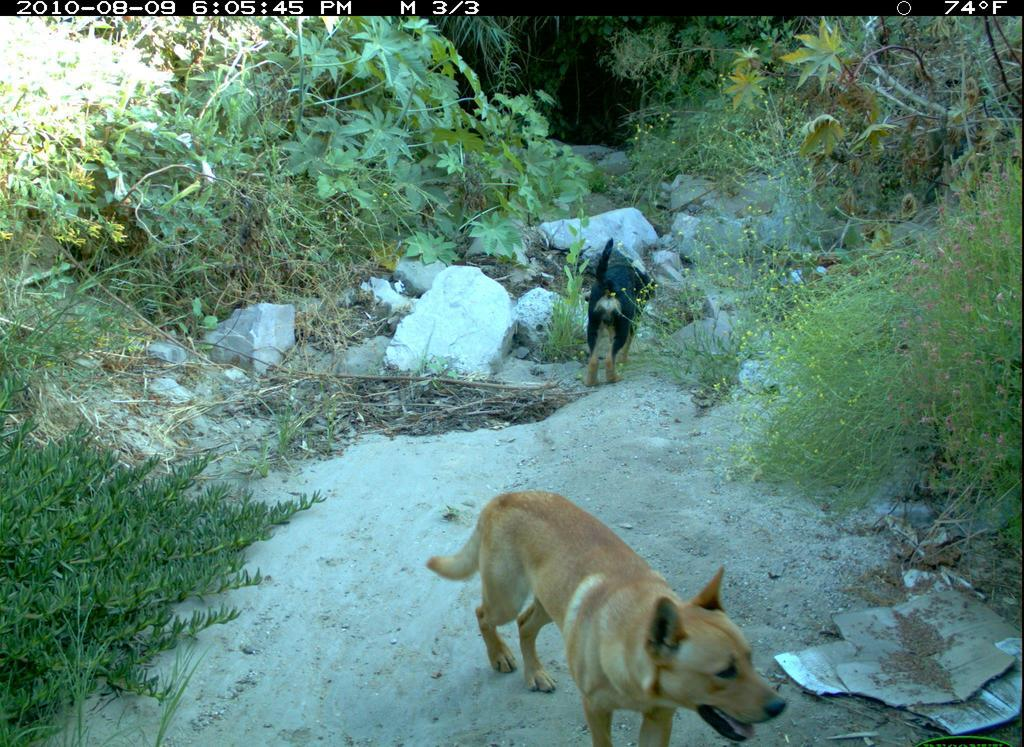dog: (428, 487, 794, 747), (585, 239, 655, 387)
